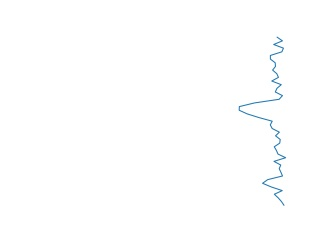interdistributaryEstuary: (236, 37, 295, 209)
